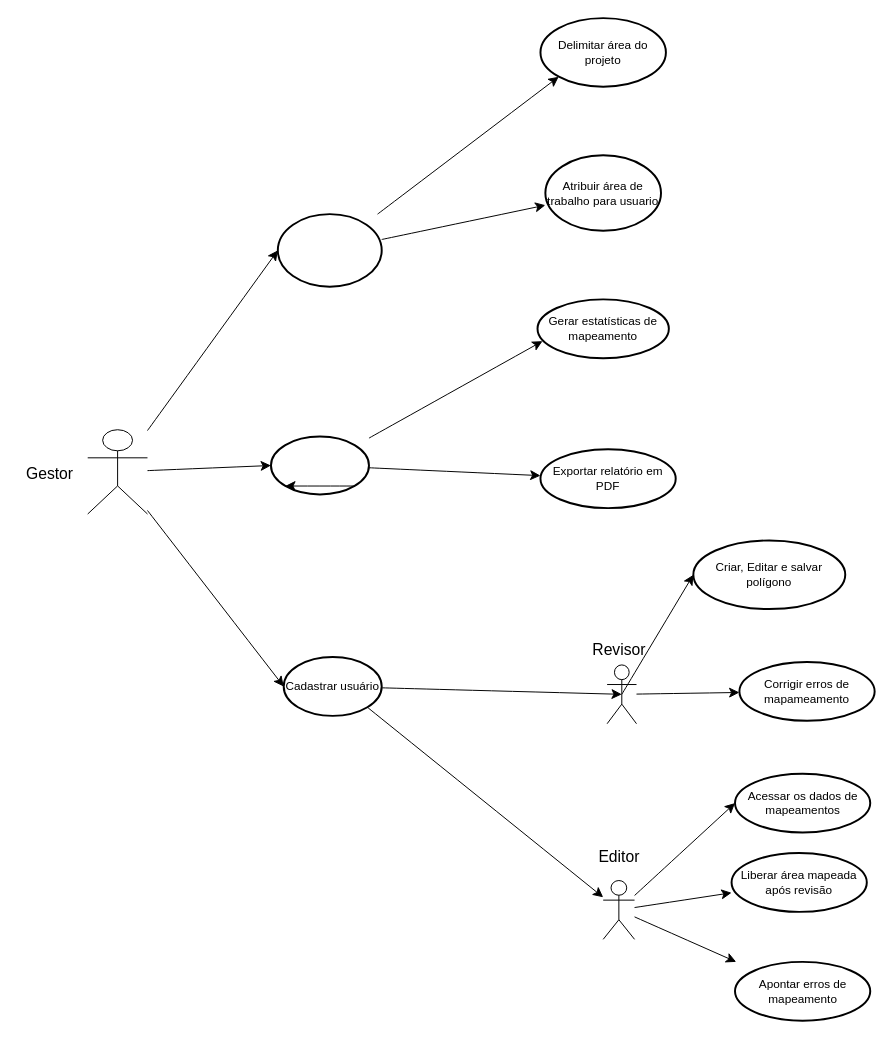
Some shapes in this 892 by 1038 pixel diagram are drawn without their labels. The centre of each missing label's shape, as x and y in pixels:
Actor: the point at 117,471
Atividades: the point at 329,250
Extrair estatísticas: the point at 319,465
